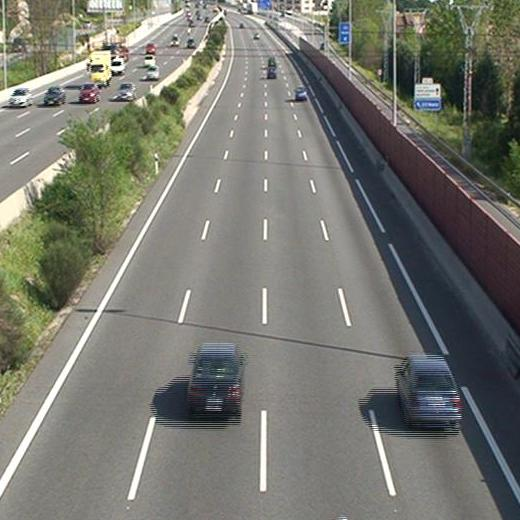car: (395, 358, 461, 424), (188, 345, 242, 411), (295, 86, 307, 100), (267, 55, 277, 67), (266, 68, 276, 78)
